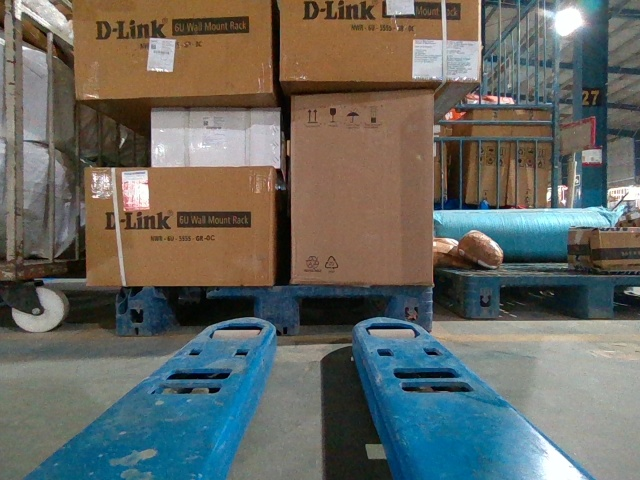block: (113, 287, 160, 338), (383, 288, 432, 335), (255, 287, 300, 337)
front: (113, 288, 433, 334)
hole pallet: (296, 297, 388, 335), (159, 299, 256, 334)
